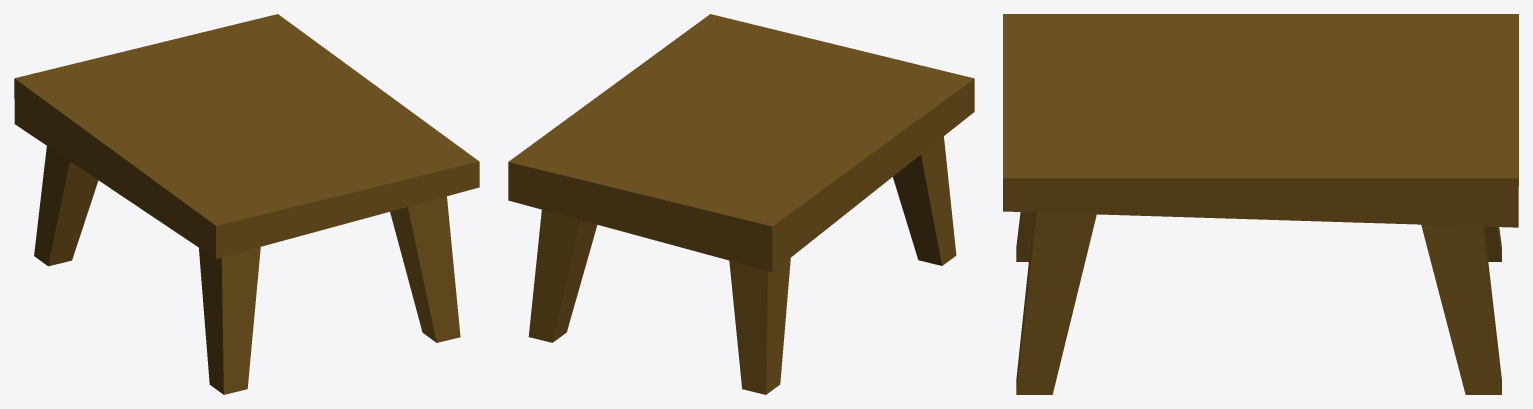
Rendered from Coffee_table.glb.
3 views of the same model, side by side, from view 1: azimuth 30°, elevation 25°; view 2: azimuth 150°, elevation 25°; view 3: azimuth 270°, elevation 25° (orthographic). The views are drawn at different scales.
Visible parts, largest first — view 1: Coffee_table; view 2: Coffee_table; view 3: Coffee_table.
Boxes of the visible parts, left/top/right/bottom form: Coffee_table: left=14, top=14, right=479, bottom=394; Coffee_table: left=508, top=14, right=974, bottom=394; Coffee_table: left=1003, top=14, right=1518, bottom=394.
Size of the model in its own units: 0.7373 by 0.4704 by 0.9764.
